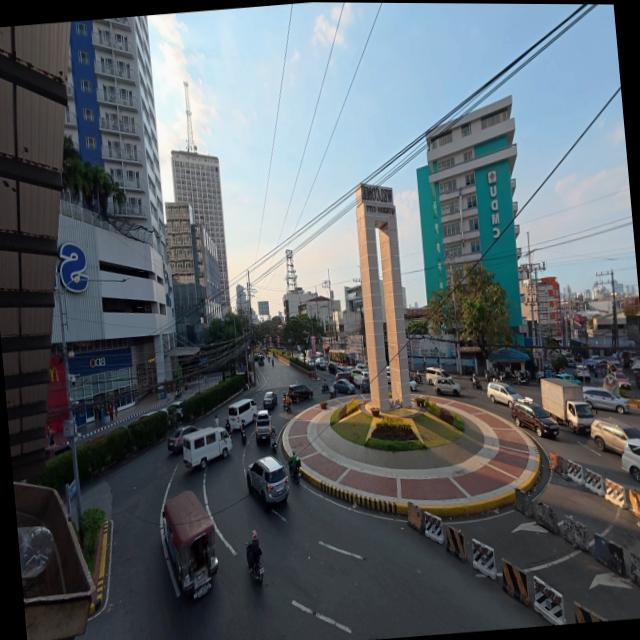car: (243, 451, 291, 507), (580, 385, 628, 417), (590, 417, 629, 456)
